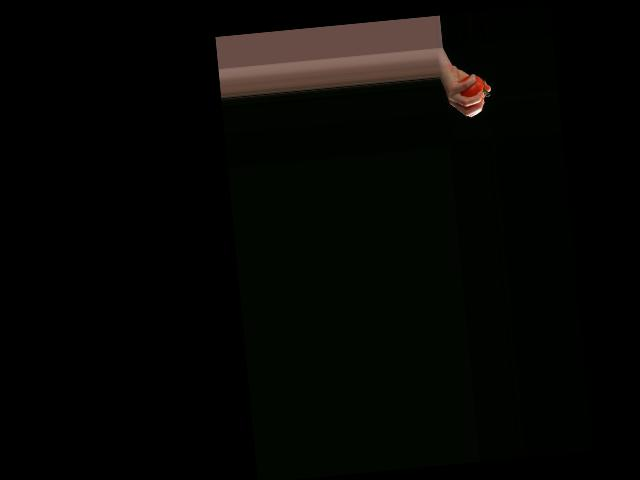tomato: (457, 74, 485, 101)
